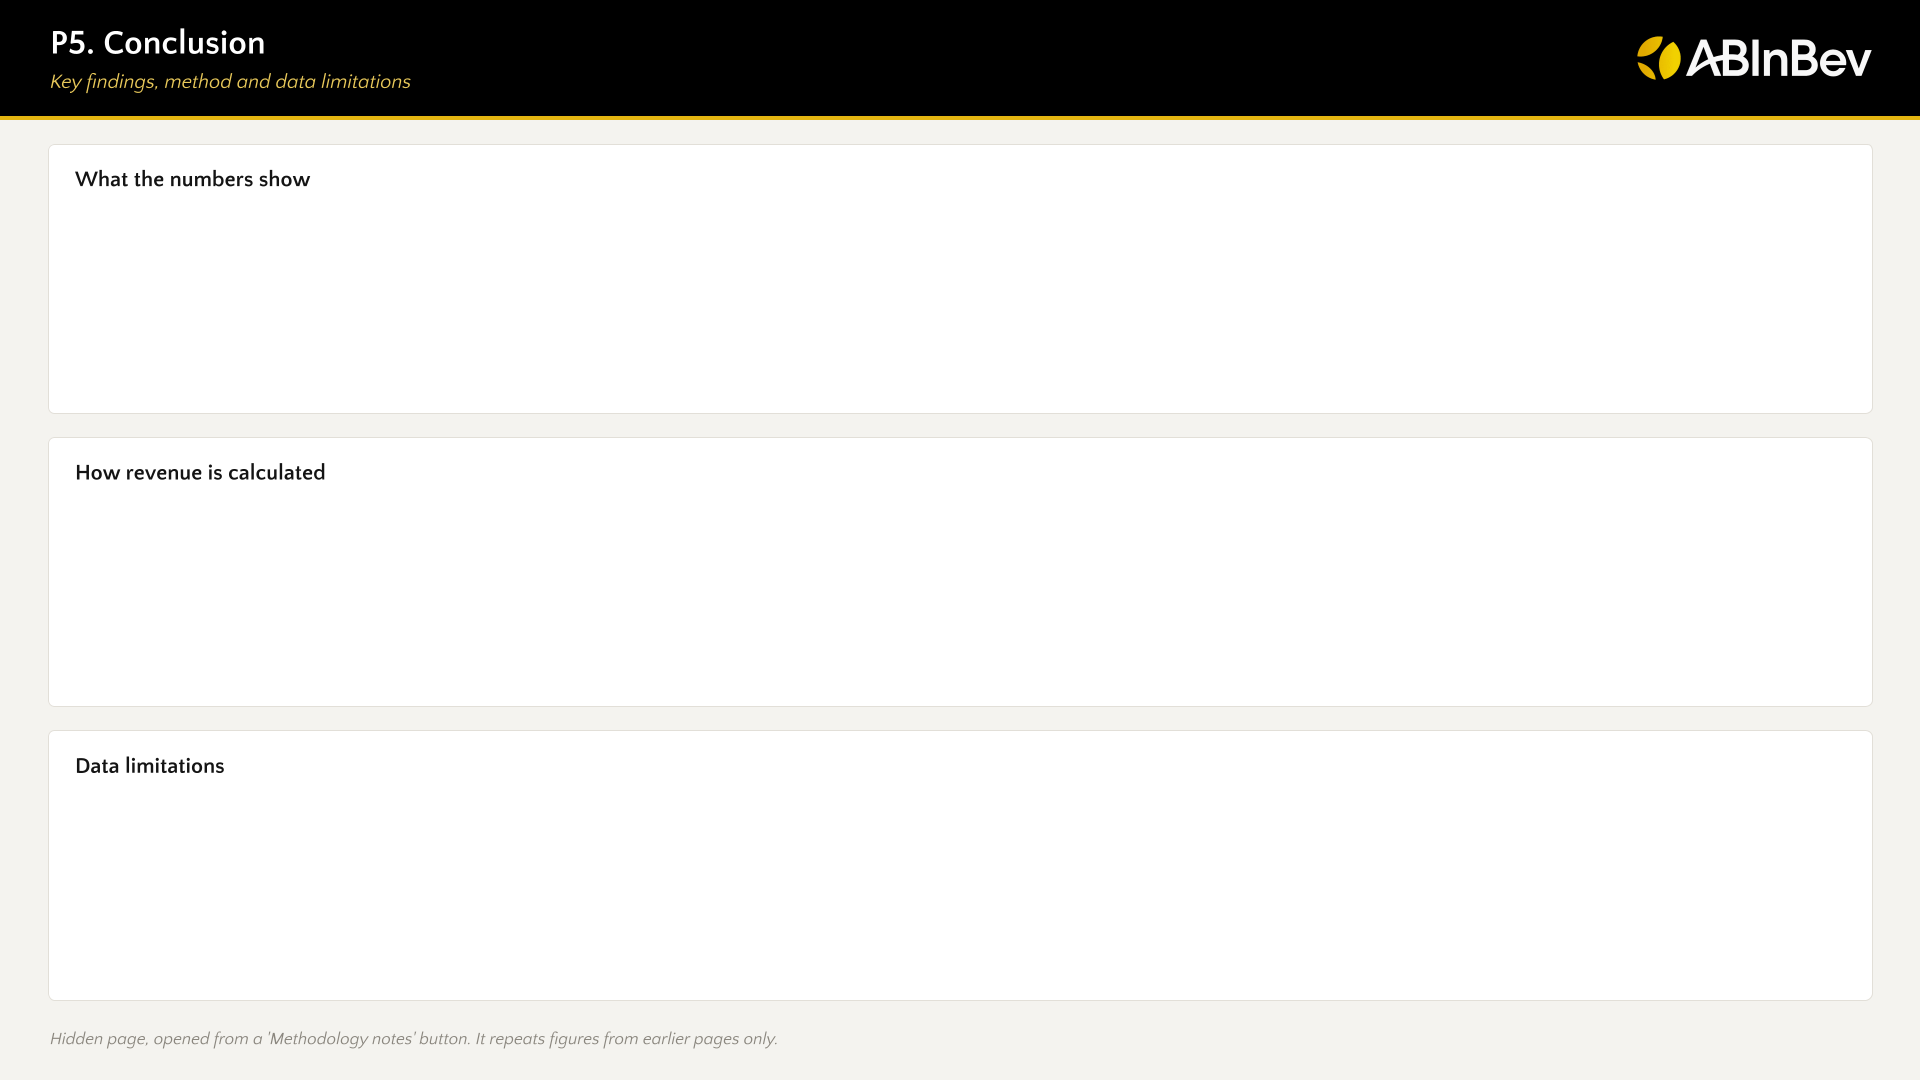

What the dashboard file says about the page in this screenshot:
{"tool":"powerbi","page":{"name":"Conclusions","canvas":[1920,1080],"ordinal":4},"visuals":[{"type":"textbox","box":[68.3,196.7,1791.7,200],"z":0},{"type":"textbox","box":[68.3,486.7,1791.7,205],"z":1},{"type":"textbox","box":[68.3,780,1791.7,205],"z":2}]}

Visuals, with their boxes in screenshot pixels (x1, y1, x2, y2), scaled from the page's 1920x1080 canvas onto the 1920x1080 screenshot:
textbox: Rect(68, 197, 1860, 397)
textbox: Rect(68, 487, 1860, 692)
textbox: Rect(68, 780, 1860, 985)
